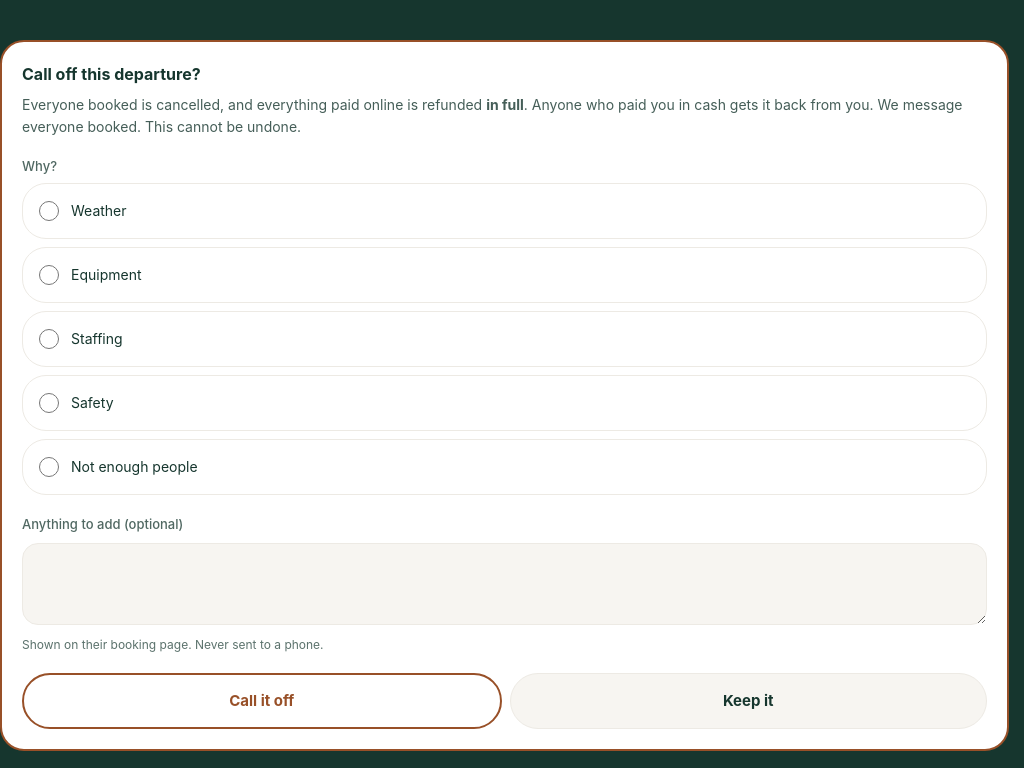
Scenario: a refused call-off › keeps the reason and the note
Click the radio button labelled "Weather" at (49, 211), box [39,201,59,221]
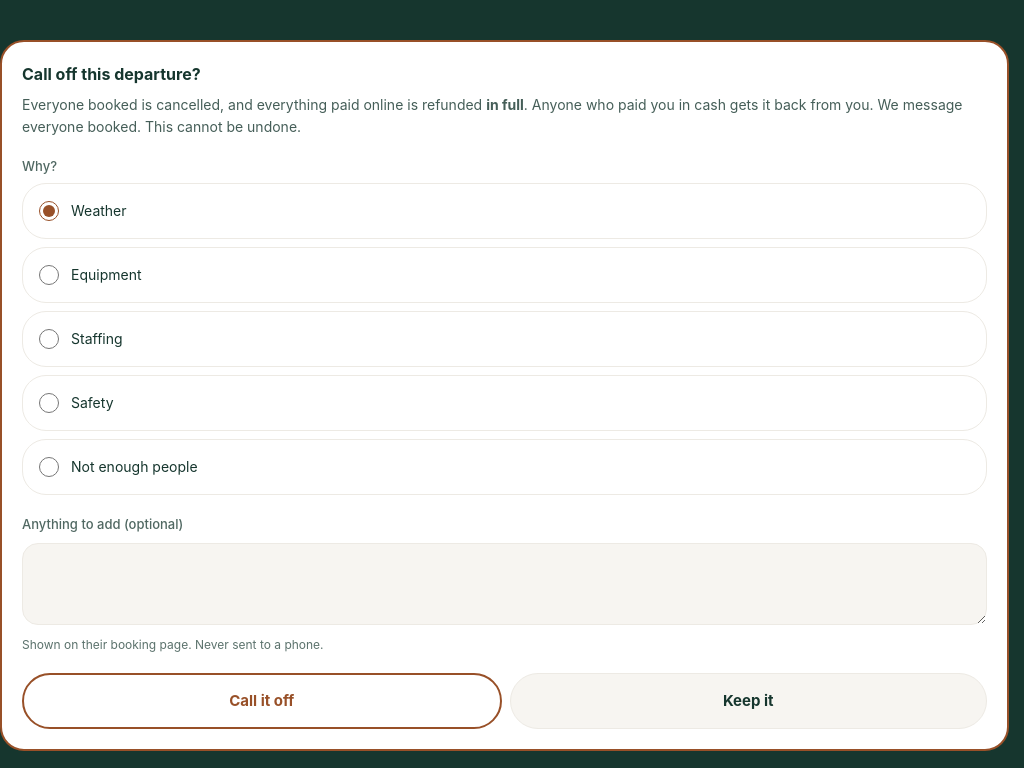
Type "Swell over the reef" into the text box labelled "Anything to add (optional)" at (504, 584), box [22,543,987,625]
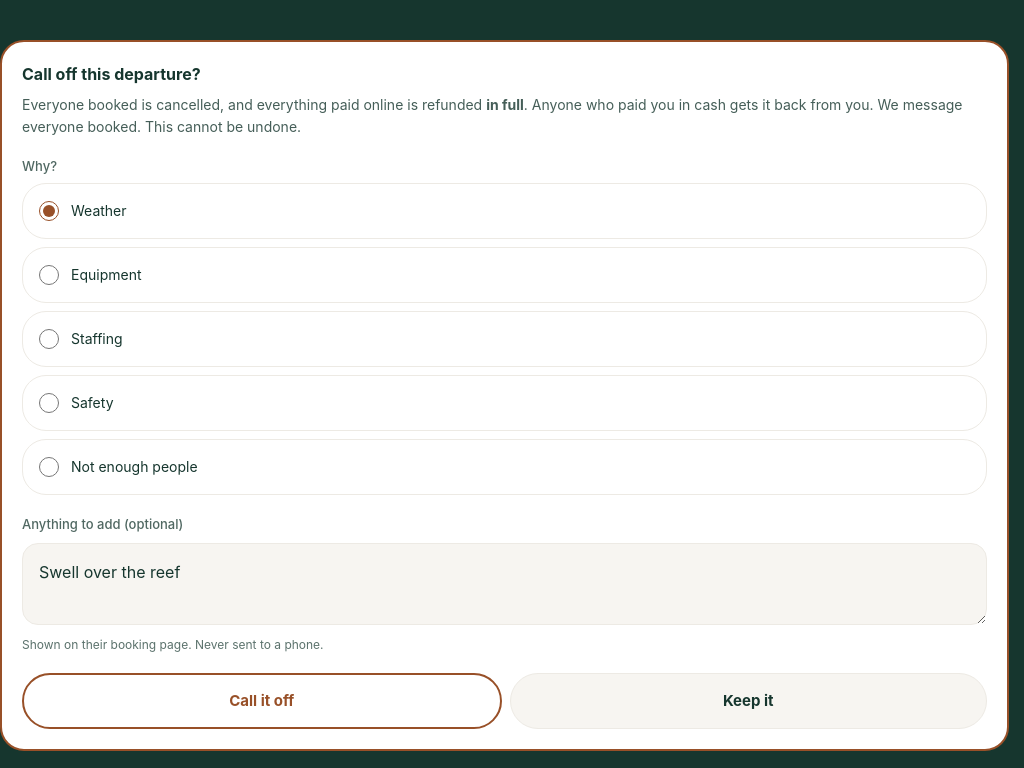
Click the button "Call it off" at (262, 701), box [22,673,502,729]
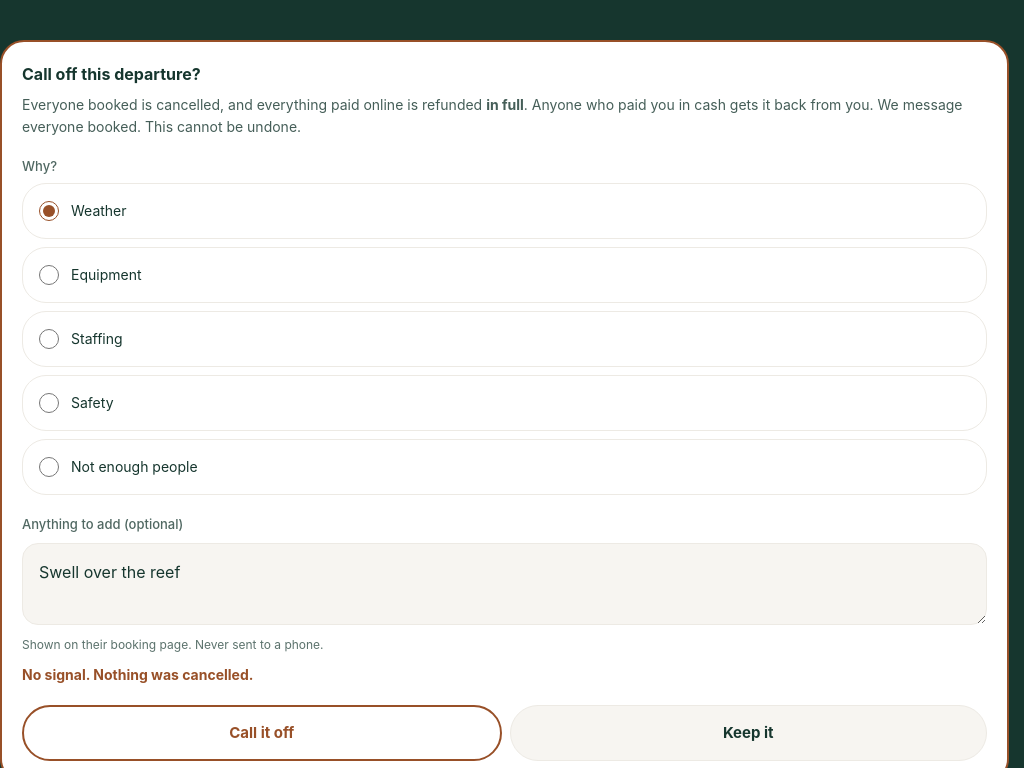
Now the radio button labelled "Weather" is checked, box [39,201,59,221]
Now the text "No signal. Nothing was cancelled." is shown, box [22,666,253,683]
